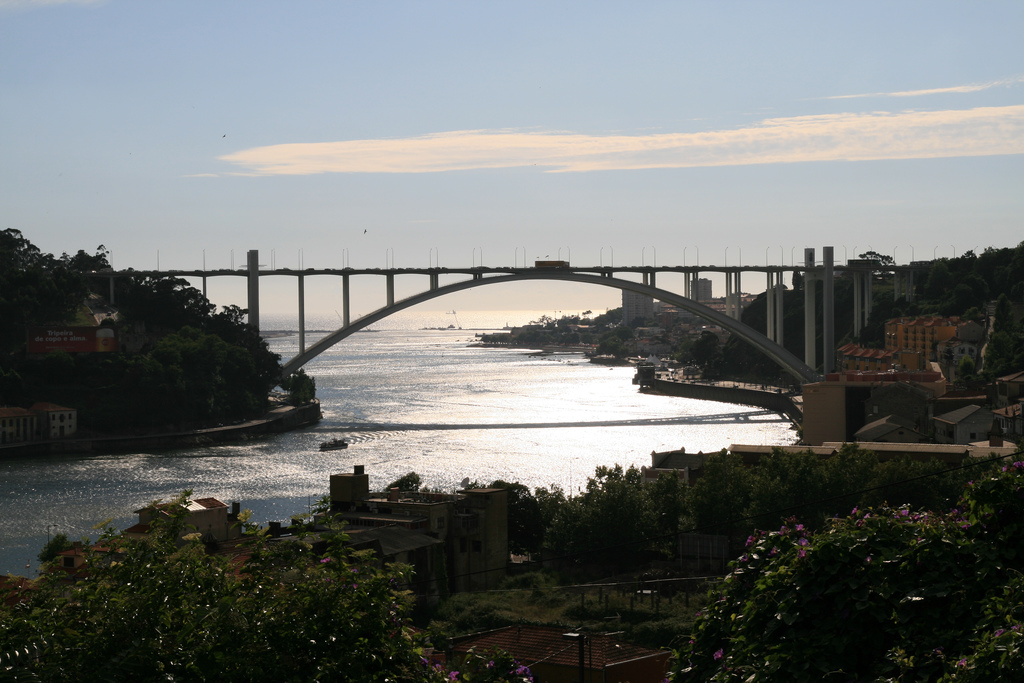arrabida: (137, 243, 911, 392)
